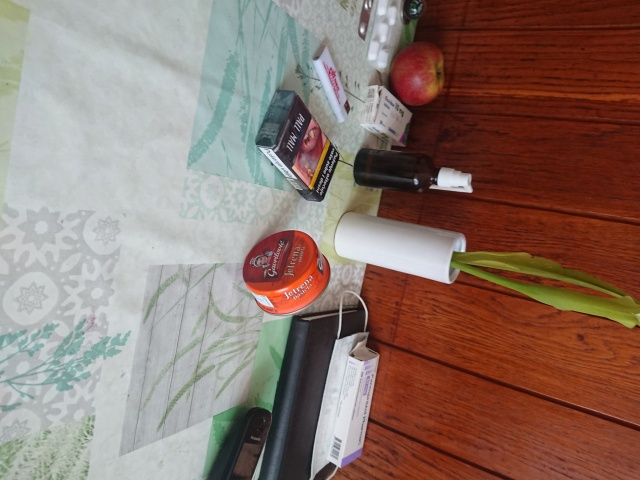Gavrilovic Pork Liver Pate 100g: (240, 227, 333, 319)
